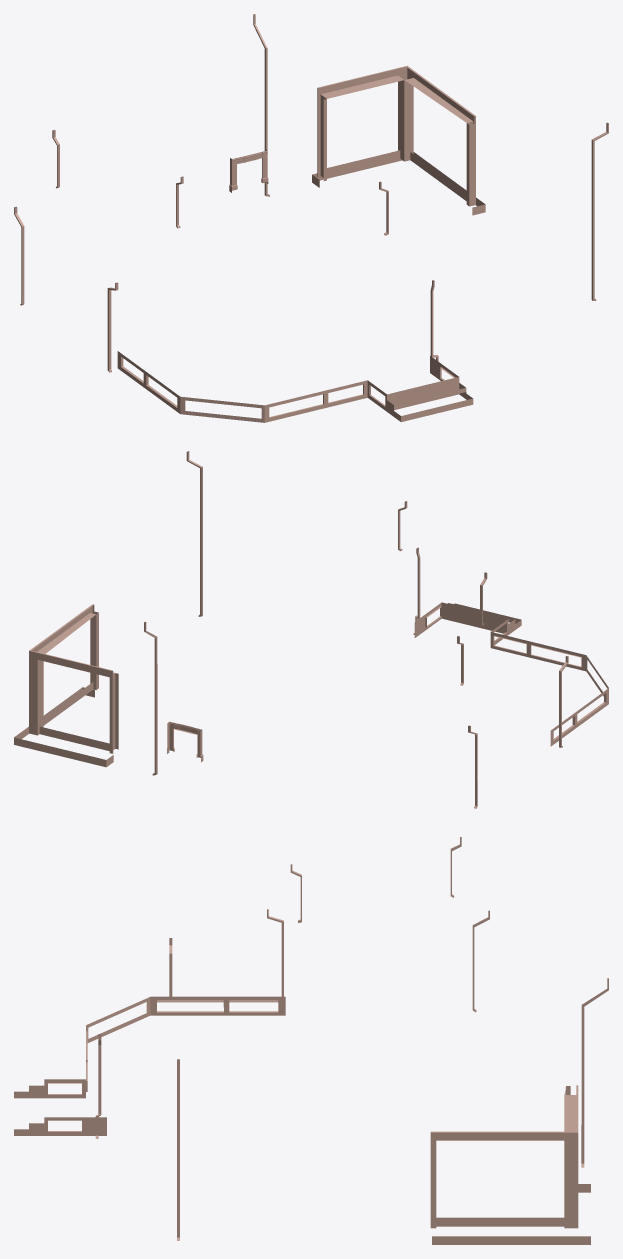
File: Subsurfed_Porch.008_uv.obj
3 renders of one model, top to bottom at view 1: azimuth 30°, elevation 25°; view 2: azimuth 150°, elevation 25°; view 3: azimuth 270°, elevation 25°, orthographic. The views are drawn at different scales.
Parts seen in each view (by area): view 1: Subsurfed_Porch.008_Cube.003; view 2: Subsurfed_Porch.008_Cube.003; view 3: Subsurfed_Porch.008_Cube.003.
Part boxes in pixels (left/top/right/bottom): Subsurfed_Porch.008_Cube.003: left=14, top=14, right=608, bottom=422; Subsurfed_Porch.008_Cube.003: left=14, top=451, right=608, bottom=808; Subsurfed_Porch.008_Cube.003: left=14, top=837, right=608, bottom=1244.
Size of the model in its own units: 18.89 by 6.97 by 20.04.
